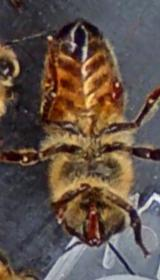varroa_mite: (101, 71, 130, 108)
